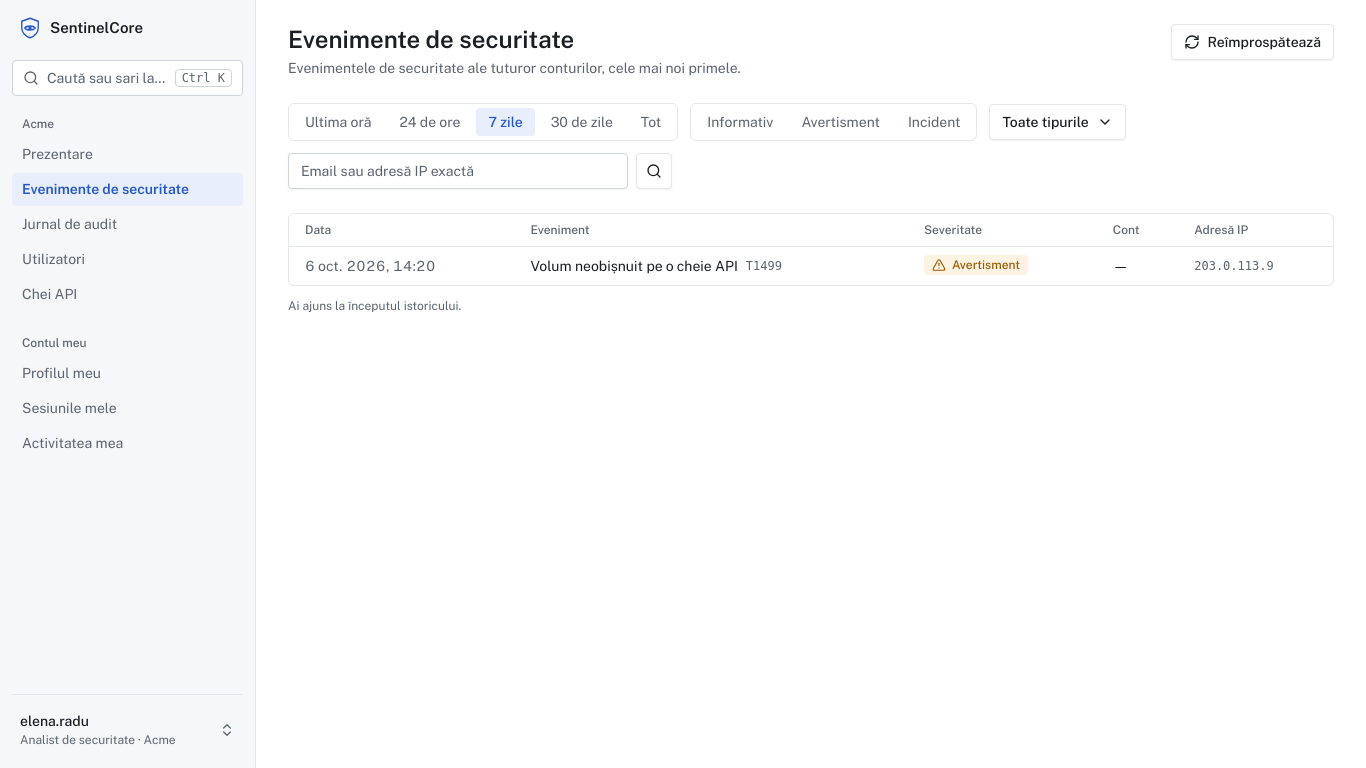
it: organization security events page › shows an API key volume spike with its technique and the sending address
expect the element titled "Endpoint Denial of Service" is shown: met, box [746, 258, 782, 274]
Click the button "Volum neobișnuit pe o cheie API" at coordinates (634, 266), box [530, 256, 738, 276]
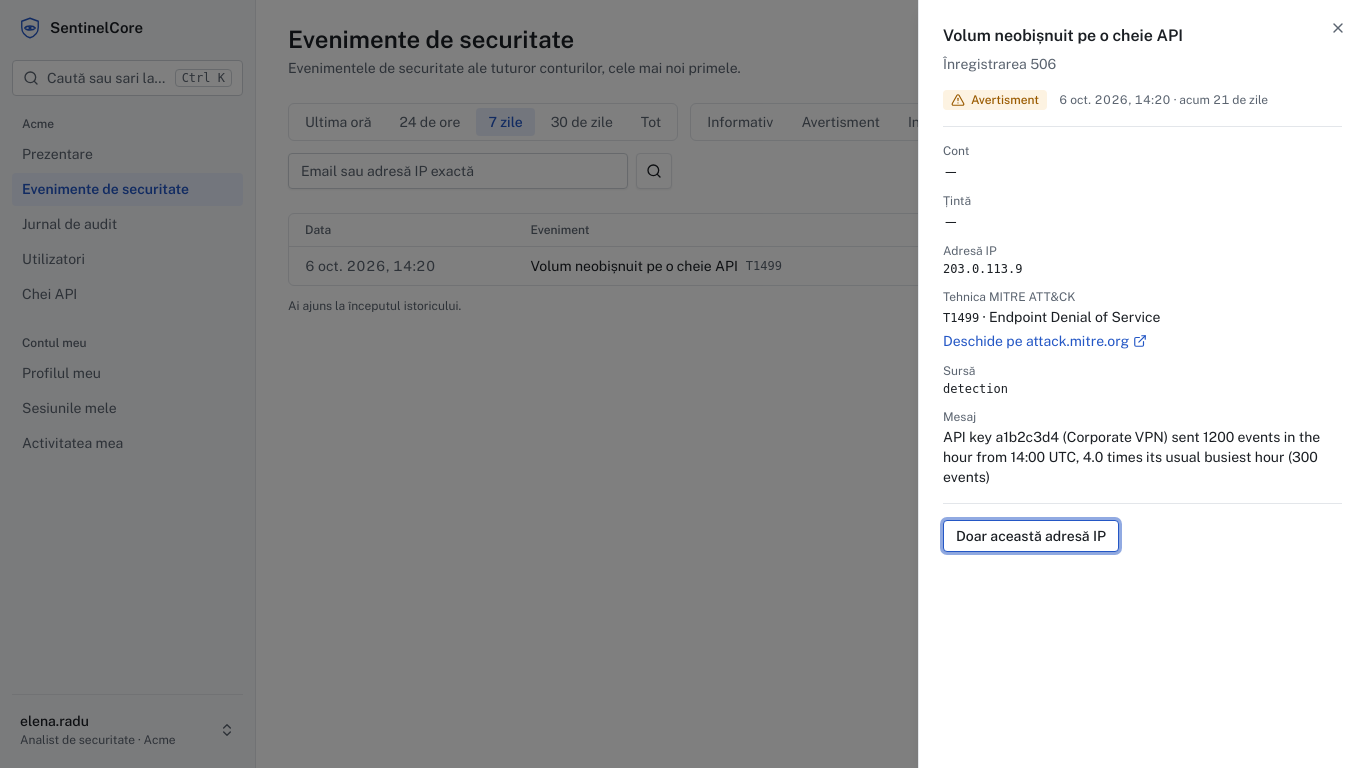
expect the dialog "Volum neobișnuit pe o cheie API" shows "203.0.113.9": met, box [943, 262, 1022, 276]
expect the dialog "Volum neobișnuit pe o cheie API" shows "4.0 times its usual busiest hour": met, box [943, 429, 1320, 485]
